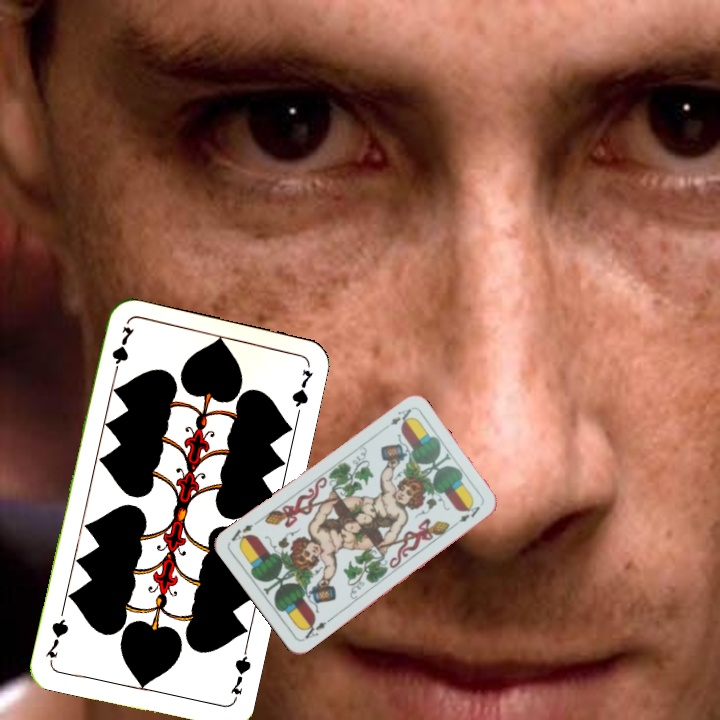EA: (379, 404, 414, 433), (298, 614, 334, 641)
G7: (108, 322, 137, 381), (226, 645, 254, 704)
